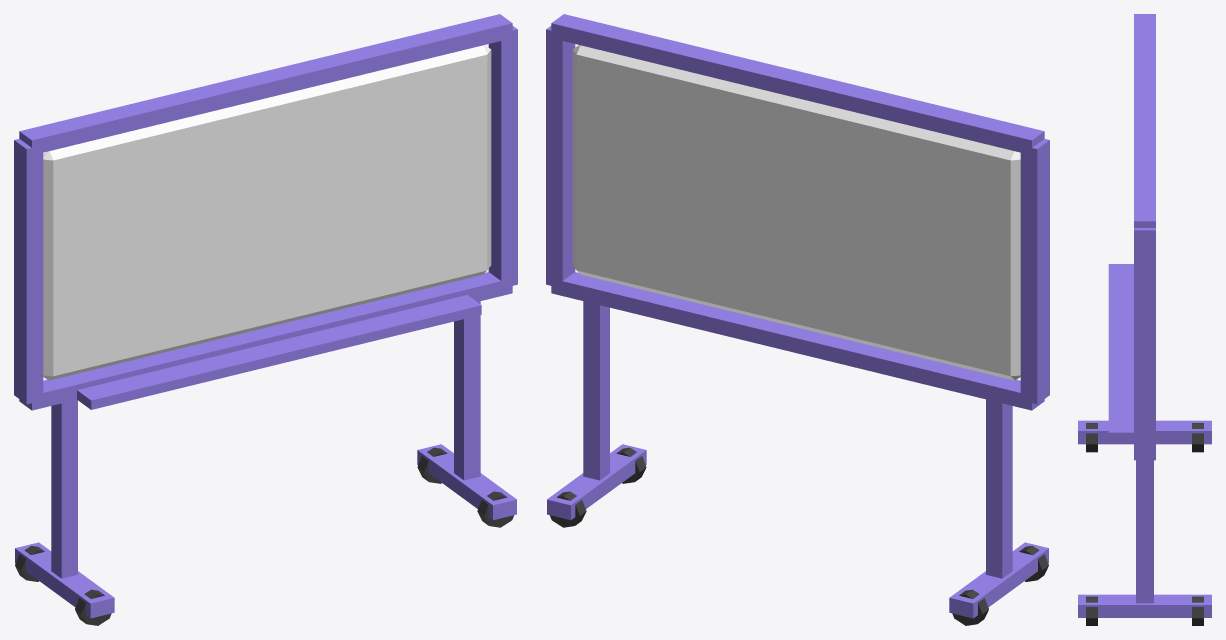
3 views of the same model, side by side, from view 1: azimuth 30°, elevation 25°; view 2: azimuth 150°, elevation 25°; view 3: azimuth 270°, elevation 25° (orthographic). The views are drawn at different scales.
Visible parts, largest first — view 1: Writing surface, Frame rail.001, Marker ledge, Frame rail, Frame upright, Frame upright.001, Stand, Stand.001, Caster beam.001, Caster beam; view 2: Writing surface, Frame rail.001, Frame rail, Frame upright, Frame upright.001, Stand.001, Stand, Caster beam.001, Caster beam; view 3: Frame upright.001, Frame rail.001, Marker ledge, Caster beam.001, Stand.001, Caster beam, Wheel, Wheel.001, Wheel.002, Wheel.003.
Part boxes in pixels (bbox=[...]): Writing surface: bbox=[43, 45, 491, 380]; Frame rail.001: bbox=[19, 14, 512, 155]; Marker ledge: bbox=[77, 295, 481, 409]; Frame rail: bbox=[19, 272, 512, 410]; Frame upright: bbox=[14, 139, 43, 404]; Frame upright.001: bbox=[488, 26, 517, 285]; Stand: bbox=[51, 399, 77, 578]; Stand.001: bbox=[454, 301, 480, 480]; Caster beam.001: bbox=[417, 444, 516, 520]; Caster beam: bbox=[15, 542, 114, 618]; Writing surface: bbox=[572, 45, 1020, 380]; Frame rail.001: bbox=[551, 14, 1044, 155]; Frame rail: bbox=[551, 272, 1044, 410]; Frame upright: bbox=[1020, 139, 1049, 404]; Frame upright.001: bbox=[546, 26, 575, 288]; Stand.001: bbox=[583, 301, 609, 480]; Stand: bbox=[986, 399, 1012, 578]; Caster beam.001: bbox=[547, 444, 646, 520]; Caster beam: bbox=[949, 542, 1048, 618]; Frame upright.001: bbox=[1134, 228, 1155, 455]; Frame rail.001: bbox=[1134, 14, 1155, 227]; Marker ledge: bbox=[1108, 264, 1133, 440]; Caster beam.001: bbox=[1078, 594, 1211, 617]; Stand.001: bbox=[1136, 460, 1153, 603]; Caster beam: bbox=[1078, 420, 1211, 444]; Wheel: bbox=[1086, 423, 1097, 452]; Wheel.001: bbox=[1192, 423, 1203, 452]; Wheel.002: bbox=[1086, 596, 1097, 625]; Wheel.003: bbox=[1192, 596, 1203, 625].
Bounding box in the file's own units: 1.8 × 1.66 × 0.48.
Materials: 1 (1 with a texture image).
